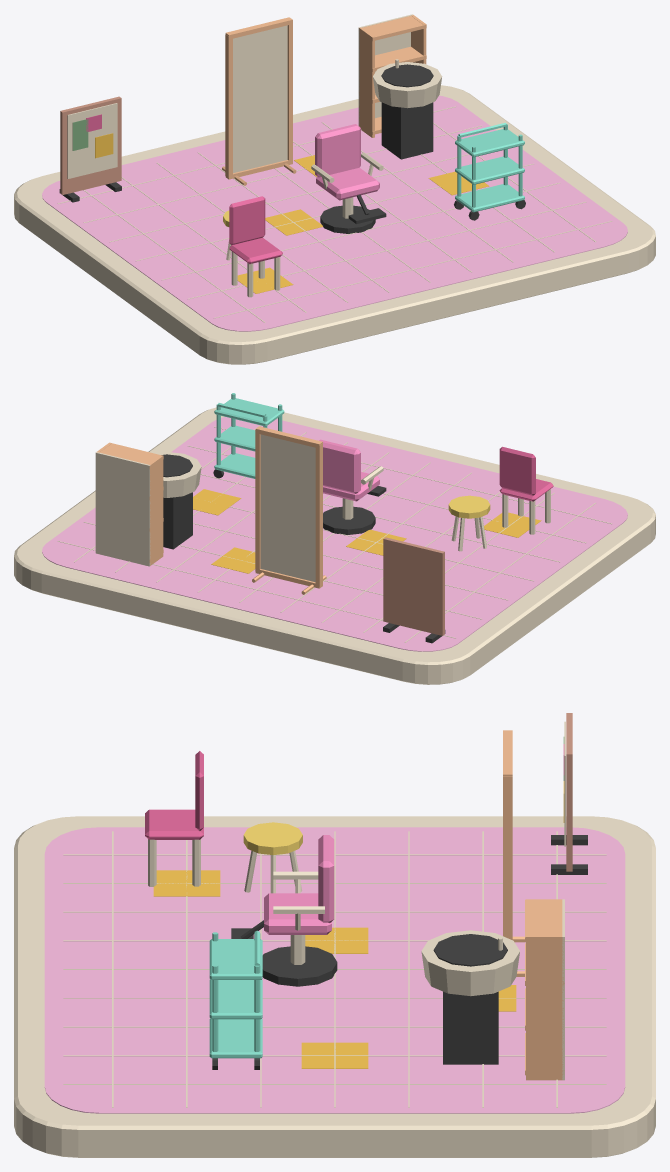
3 renders of one model, top to bottom at view 1: azimuth 30°, elevation 25°; view 2: azimuth 150°, elevation 25°; view 3: azimuth 270°, elevation 25°, orthographic. The views are drawn at different scales.
Parts seen in each view (by area): view 1: COM-02 Floor Surface, COM-01 Rounded Base Direct, Mirror face, Pedestal, Canvas, Panel, Back, Bowl, Backrest, Side, Seat, Tray.002 (+16 smaller); view 2: COM-02 Floor Surface, COM-01 Rounded Base Direct, Mirror face, Back.001, Panel, Back, Backrest, Pedestal, Side, Base, Frame, Bowl (+14 smaller); view 3: COM-02 Floor Surface, COM-01 Rounded Base Direct, Side.001, Pedestal, Bowl, Base, Seat, Tray.002, Inset, Tray.001, Tray, Geometric color tile.003 (+13 smaller).
Part boxes in pixels (x1,y1,x2,y2): COM-02 Floor Surface: [42, 95, 627, 331]; COM-01 Rounded Base Direct: [14, 85, 655, 364]; Mirror face: [233, 25, 287, 172]; Pedestal: [381, 102, 433, 159]; Canvas: [67, 103, 117, 178]; Panel: [60, 96, 121, 194]; Back: [315, 124, 360, 177]; Bowl: [373, 62, 442, 108]; Backrest: [229, 196, 265, 245]; Side: [359, 27, 374, 137]; Seat: [316, 167, 379, 200]; Tray.002: [455, 129, 524, 157]; COM-02 Floor Surface: [42, 417, 627, 651]; COM-01 Rounded Base Direct: [14, 407, 655, 684]; Mirror face: [260, 434, 315, 582]; Back.001: [95, 452, 150, 566]; Panel: [383, 537, 444, 635]; Back: [319, 439, 360, 493]; Backrest: [499, 446, 535, 495]; Pedestal: [163, 492, 192, 549]; Side: [148, 455, 163, 565]; Base: [323, 506, 375, 534]; Frame: [315, 443, 322, 587]; Bowl: [154, 452, 201, 497]; COM-02 Floor Surface: [44, 827, 625, 1113]; COM-01 Rounded Base Direct: [14, 816, 655, 1157]; Side.001: [526, 935, 563, 1080]; Pedestal: [443, 991, 498, 1064]; Bowl: [421, 930, 519, 996]; Base: [262, 946, 337, 986]; Seat: [264, 893, 331, 934]; Tray.002: [209, 939, 262, 979]; Inset: [433, 934, 507, 966]; Tray.001: [209, 979, 262, 1019]; Tray: [209, 1018, 262, 1058]; Geometric color tile.003: [301, 1042, 368, 1068].
Size of the model in its own units: 6 by 2.15 by 5.2.
1 material, 1 textured.
